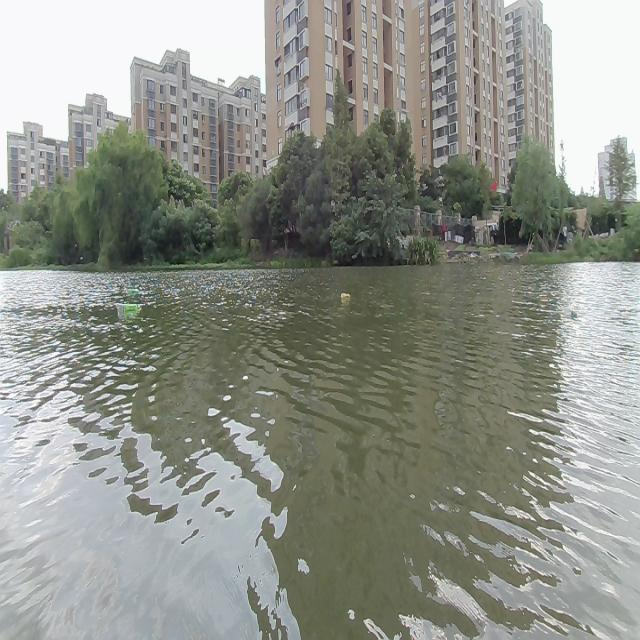bottle: (115, 300, 141, 316), (564, 304, 580, 322), (336, 287, 352, 304), (127, 284, 143, 298)
